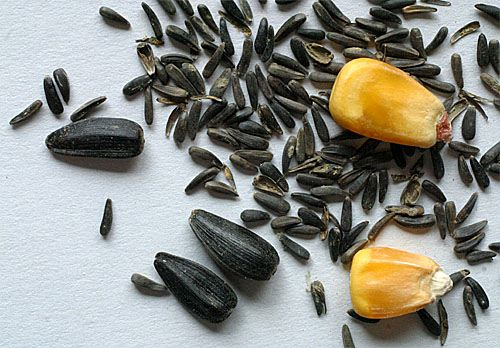corn: (330, 59, 453, 150), (348, 247, 455, 321)
